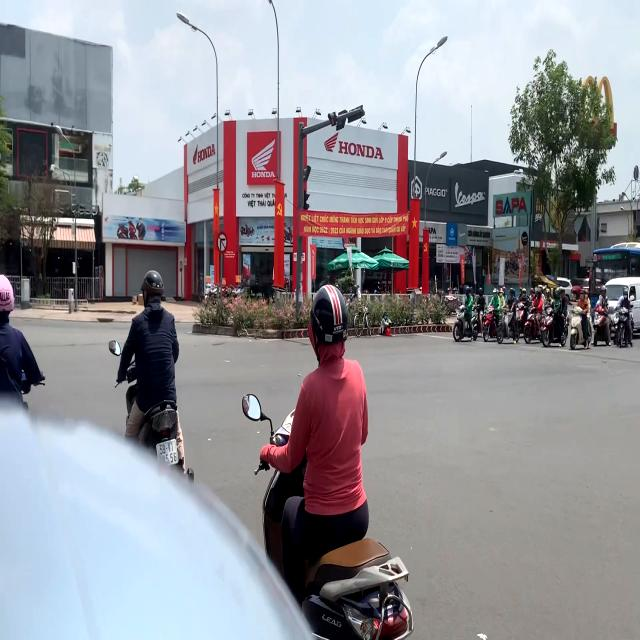P.123b: (216, 232, 228, 253)
